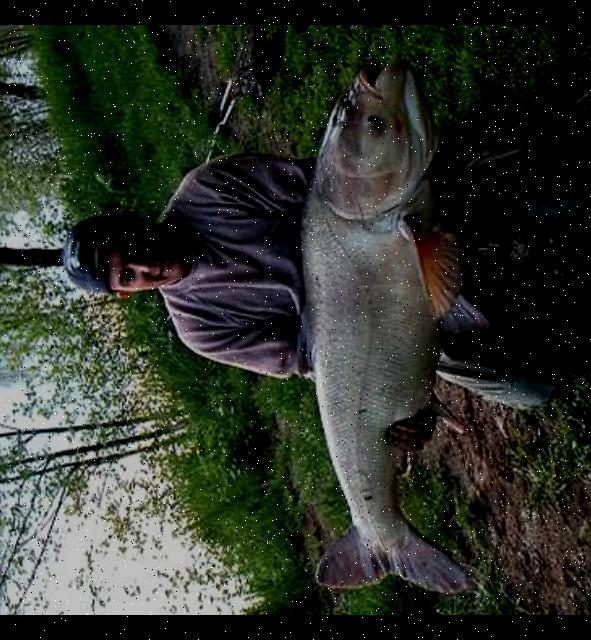Mulut: (344, 39, 415, 94)
Sirip Dada: (381, 202, 470, 318)
Sirip Ekor: (308, 522, 485, 603)
Sirip Perut: (422, 278, 499, 352)
Sirip Punggung: (275, 288, 330, 388)
